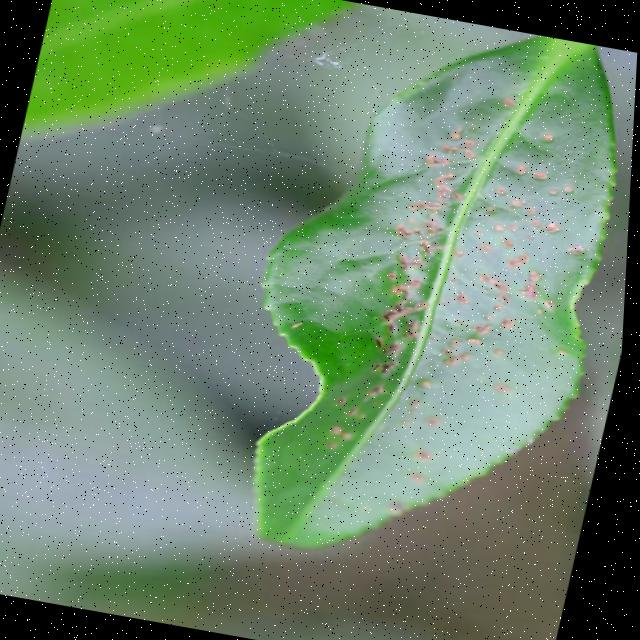Tea red scab: (313, 89, 598, 517)
